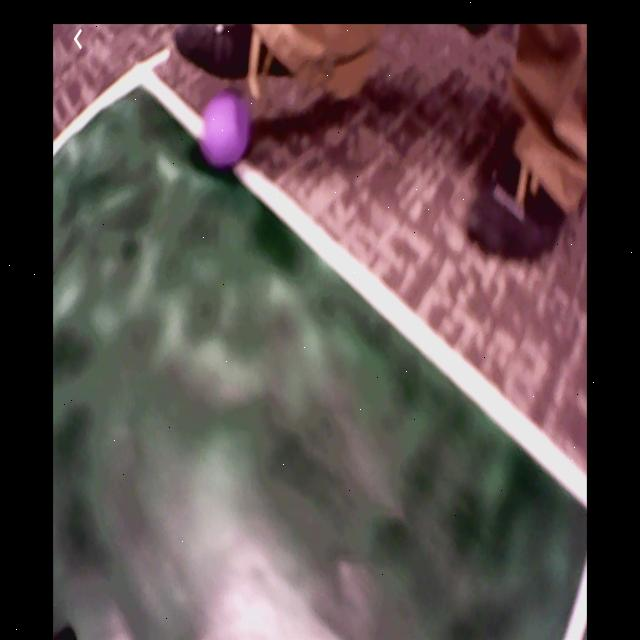ball: (202, 87, 247, 169)
